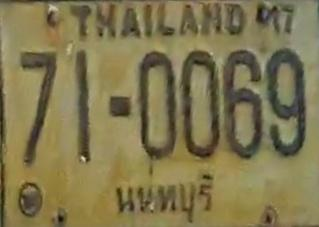0: (180, 49, 220, 159), (137, 50, 177, 160)
1: (74, 50, 98, 164)
6: (222, 48, 262, 159)
7: (19, 50, 58, 164)
9: (266, 48, 306, 158)
NBI: (112, 168, 218, 223)
